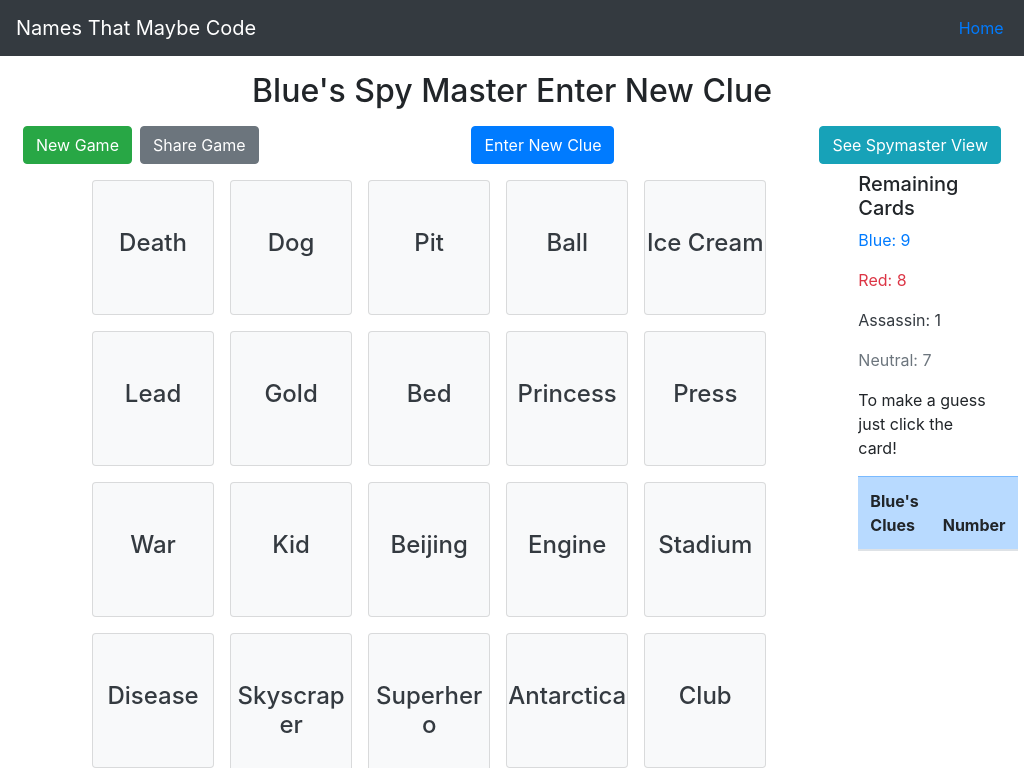
it: Enter Clue › Shows an error when only entering a clue
Click the button with id "codenames-enterClueButton" at (543, 145), box top-left (471, 126), bottom-right (614, 164)
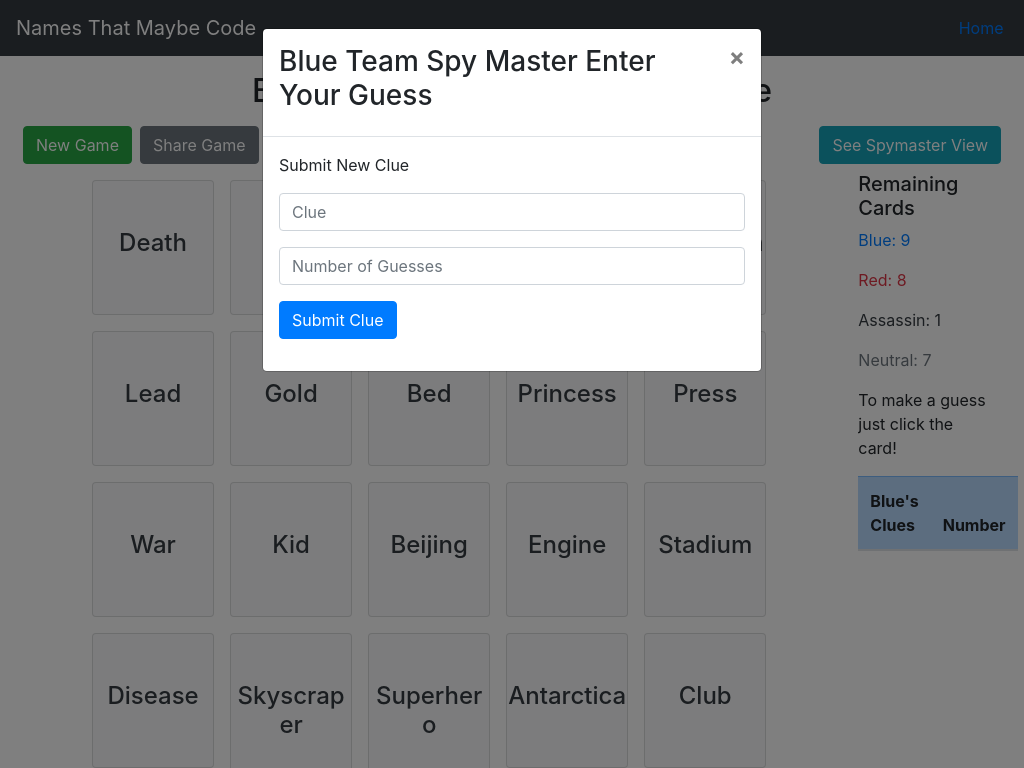
Type "Starwars" into the field with id "codenames-clueWordInput" at (512, 212), box top-left (279, 193), bottom-right (745, 231)
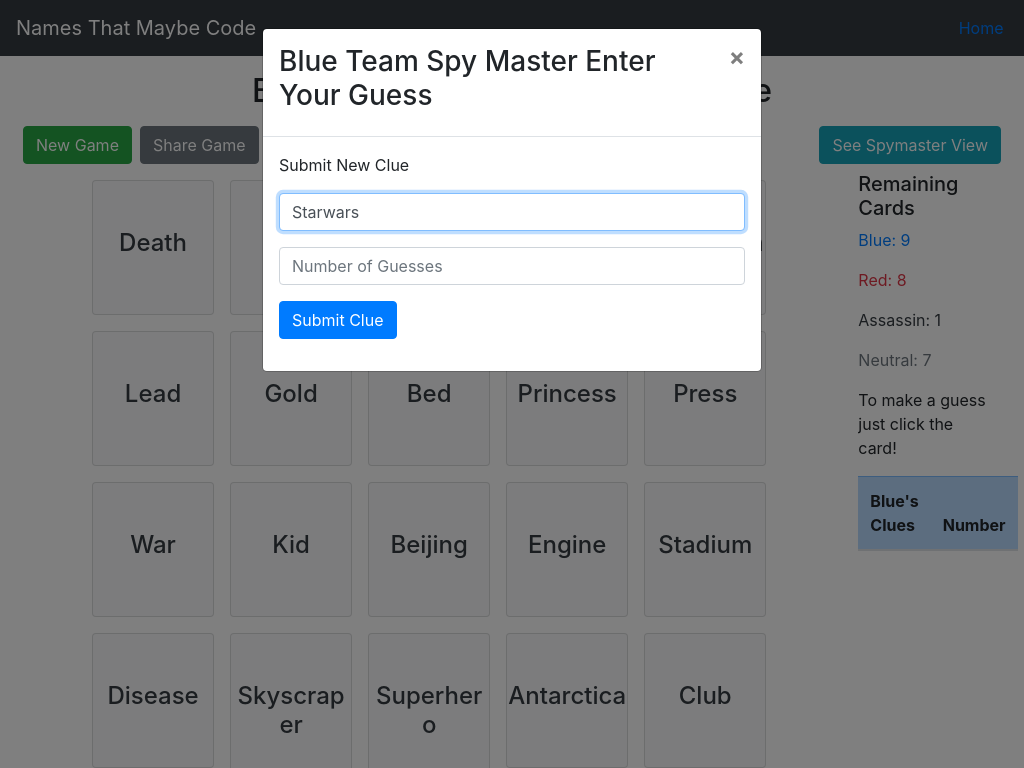
Click the button with id "codenames-submitClueButton" at (338, 320), box top-left (279, 301), bottom-right (397, 339)
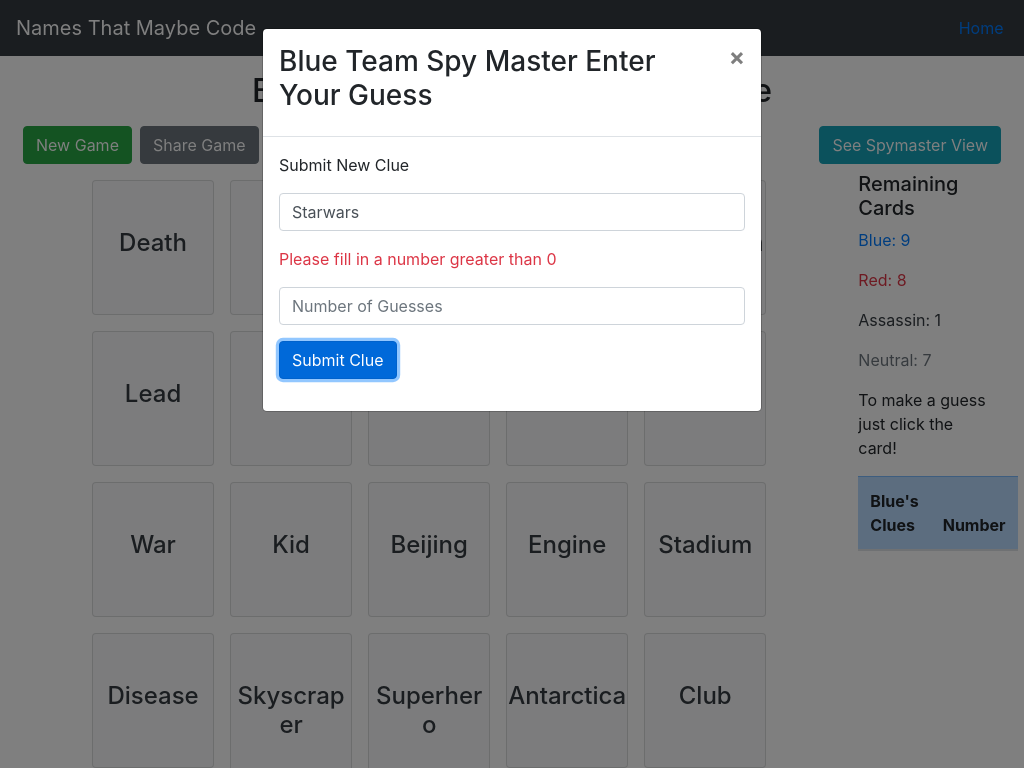
Expected: the element with id "codenames-clueModal" is shown, top-left (262, 28), bottom-right (762, 412)
Expected: the text with id "codenames-clueNumberError" reads "Please fill in a number greater than 0", top-left (279, 249), bottom-right (557, 269)
